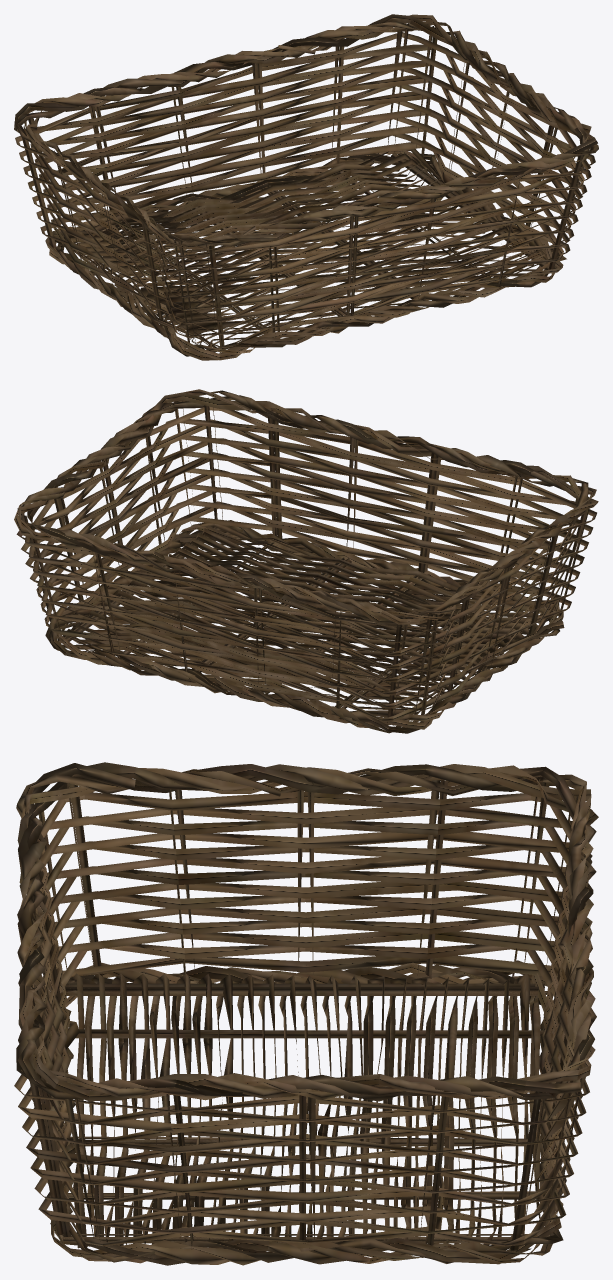
File: wicker_basket_01.glb
The picture shows the model from 3 angles, top to bottom: view 1: azimuth 30°, elevation 25°; view 2: azimuth 150°, elevation 25°; view 3: azimuth 270°, elevation 25°; orthographic projection. The views are drawn at different scales.
Parts seen in each view (by area): view 1: wicker_basket_01; view 2: wicker_basket_01; view 3: wicker_basket_01.
Boxes of the visible parts, x1,y1,x2,y2 form: wicker_basket_01: [14, 14, 598, 360]; wicker_basket_01: [14, 389, 598, 733]; wicker_basket_01: [14, 762, 598, 1265].
Bounding box in the file's own units: 0.383 × 0.1174 × 0.2939.
Materials: 1 (1 with a texture image).
